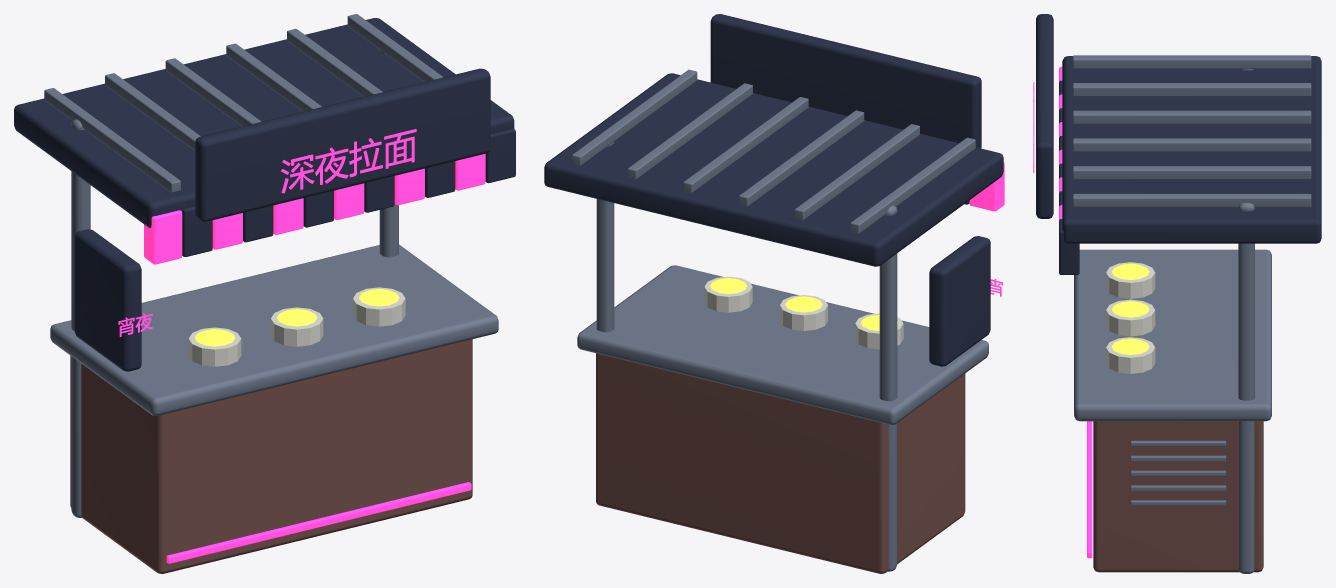
The model's file is stall_ramen.glb.
3 views of the same model, side by side, from view 1: azimuth 30°, elevation 25°; view 2: azimuth 150°, elevation 25°; view 3: azimuth 270°, elevation 25° (orthographic). The views are drawn at different scales.
Visible parts, largest first — view 1: Counter, Countertop, Roof, Sign backing, Side menu, Post, Kick neon, Roof rib, Sign_深夜拉面, Awning stripe, Roof rib.001, Roof rib.005 (+18 smaller); view 2: Counter, Roof, Countertop, Sign backing, Side menu, Post, Post.001, Roof rib.002, Roof rib.004, Roof rib.001, Roof rib.003, Roof rib.005 (+5 smaller); view 3: Roof, Countertop, Counter, Post.001, Sign backing, Roof rib.002, Roof rib.005, Roof rib, Roof rib.001, Roof rib.004, Roof rib.003, Bowl.001 (+12 smaller).
Part boxes in pixels (x1,y1,x2,y2): Counter: (70, 339, 472, 573); Countertop: (50, 244, 498, 415); Roof: (14, 18, 514, 227); Sign backing: (195, 68, 490, 221); Side menu: (74, 229, 141, 371); Post: (71, 119, 90, 517); Kick neon: (166, 482, 471, 563); Roof rib: (44, 88, 180, 192); Sign_深夜拉面: (281, 129, 416, 193); Awning stripe: (144, 210, 182, 264); Roof rib.001: (105, 73, 200, 150); Roof rib.005: (347, 14, 443, 81); Counter: (596, 353, 965, 573); Roof: (544, 73, 1003, 266); Countertop: (577, 265, 988, 424); Sign backing: (710, 14, 981, 148); Side menu: (929, 236, 990, 366); Post: (879, 205, 897, 571); Post.001: (596, 142, 614, 332); Roof rib.002: (739, 110, 864, 206); Roof rib.004: (627, 83, 752, 179); Roof rib.001: (794, 124, 919, 220); Roof rib.003: (683, 97, 808, 192); Roof rib.005: (572, 69, 697, 165); Roof: (1062, 56, 1321, 243); Countertop: (1074, 249, 1271, 421); Counter: (1093, 421, 1263, 572); Post.001: (1238, 203, 1254, 573); Sign backing: (1036, 14, 1053, 218); Roof rib.002: (1072, 110, 1311, 124); Roof rib.005: (1072, 193, 1311, 207); Roof rib: (1072, 55, 1311, 68); Roof rib.001: (1072, 83, 1311, 96); Roof rib.004: (1072, 166, 1311, 179); Roof rib.003: (1072, 138, 1311, 151); Bowl.001: (1106, 299, 1155, 336).
Size of the model in its own units: 3.01 by 3.43 by 2.11.
